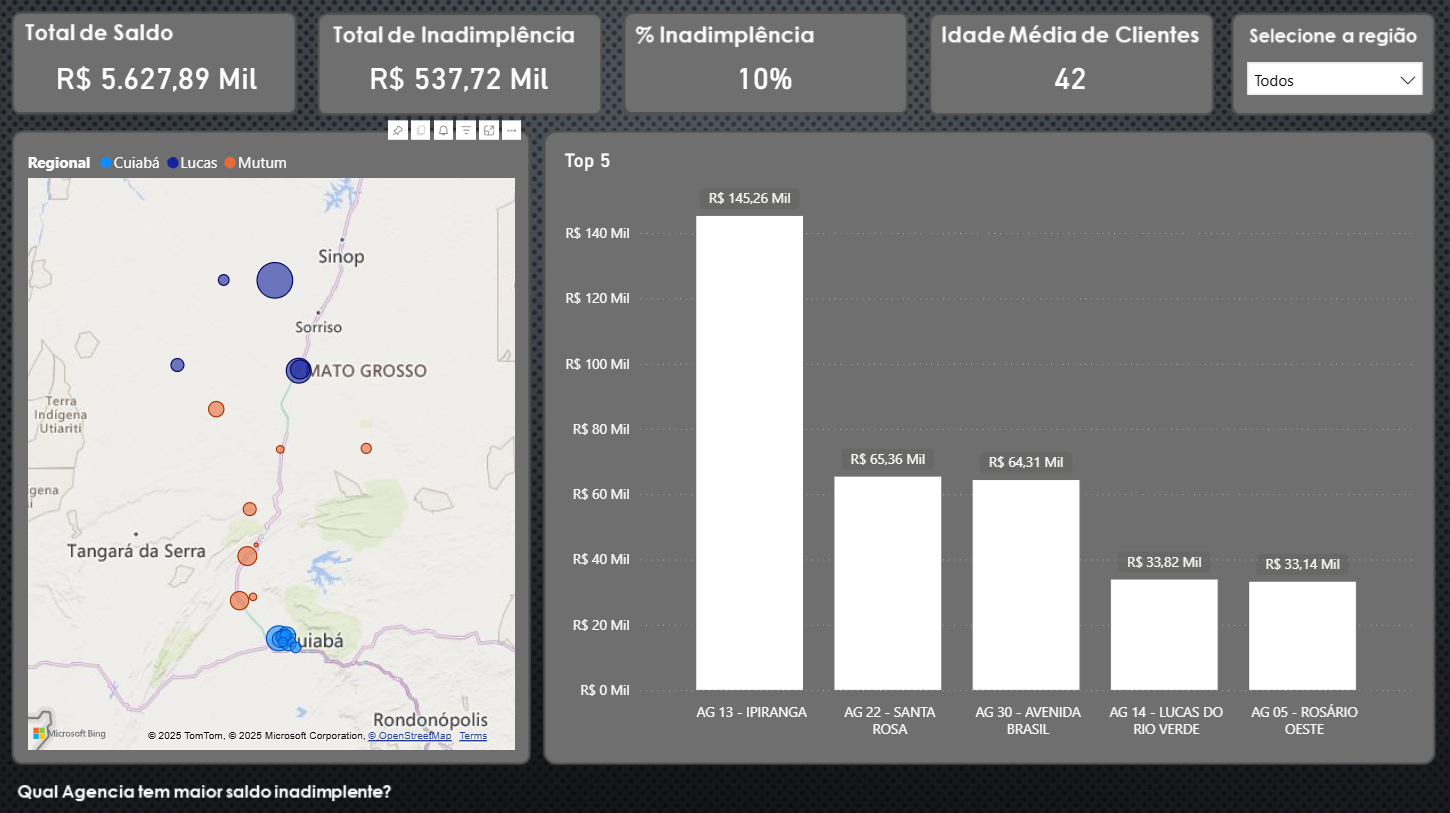

What the dashboard file says about the page in this screenshot:
{"tool":"powerbi","page":{"name":"VisaoGeral de Carteira e inadimplencia","canvas":[1280,720],"ordinal":1},"visuals":[{"type":"card","fields":{"Values":["Operações.total_de_saldo"]},"box":[21,46,236,46],"z":0},{"type":"card","fields":{"Values":["Operações.total_de_inadimplencia"]},"box":[286,46,236,46],"z":1000},{"type":"card","fields":{"Values":["Operações.%Inadinplencia"]},"box":[554,46,236,46],"z":2000},{"type":"slicer","fields":{"Values":["Agencia.Regional"]},"box":[1085,46,174,46],"z":3000},{"type":"map","fields":{"Series":["Agencia.Regional"],"Size":["Sum(Operações.saldo_inadimplente)"],"Y":["Agencia.latitude"],"X":["Agencia.longitude"]},"box":[21,124,438,540],"z":4000},{"type":"card","fields":{"Values":["Avg(Pessoas.Idade)"]},"box":[822,46,236,46],"z":5000},{"type":"columnChart","title":"Top 5","fields":{"Y":["Operações.TopCincoAgenciasInadimplentes"],"Category":["Agencia.Agencia"]},"box":[491.8,131.8,755.5,523.6],"z":6000}]}

Visuals, with their boxes in screenshot pixels (x1, y1, x2, y2), scaled from the page's 1280x720 canvas onto the 1450x813 screenshot:
card - Operações.total_de_saldo: left=24, top=52, right=291, bottom=104
card - Operações.total_de_inadimplencia: left=324, top=52, right=591, bottom=104
card - Operações.%Inadinplencia: left=628, top=52, right=895, bottom=104
slicer - Agencia.Regional: left=1229, top=52, right=1426, bottom=104
map - Agencia.Regional x Sum(Operações.saldo_inadimplente): left=24, top=140, right=520, bottom=750
card - Avg(Pessoas.Idade): left=931, top=52, right=1199, bottom=104
"Top 5" columnChart: left=557, top=149, right=1413, bottom=740
